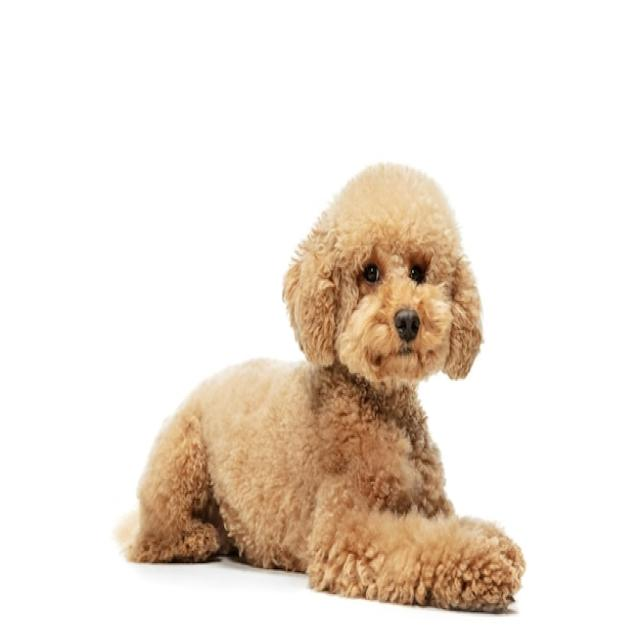Dog: (115, 159, 525, 614)
